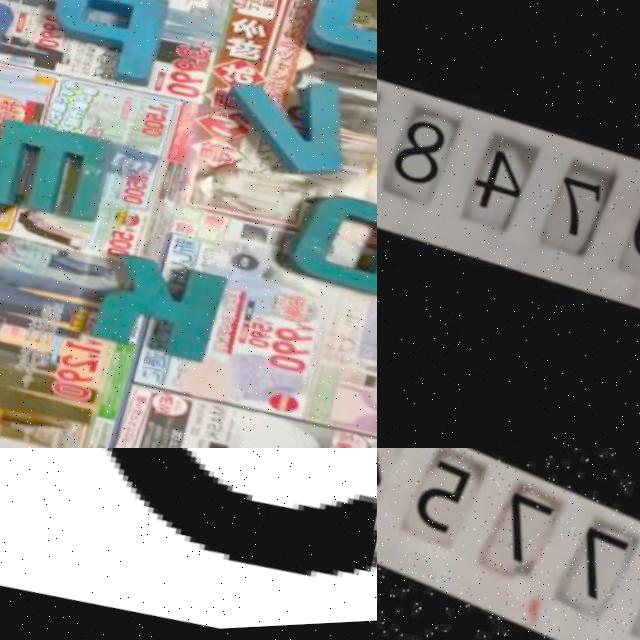0: (616, 187, 640, 289)
4: (454, 130, 542, 240), (377, 448, 415, 525)
5: (396, 448, 493, 555)
7: (475, 474, 572, 591), (548, 510, 640, 625), (537, 161, 617, 261)
8: (377, 101, 463, 208)
9: (0, 448, 377, 609)
D: (272, 185, 377, 306)
J: (289, 0, 377, 81)
K: (80, 249, 225, 370)
M: (0, 113, 117, 229)
P: (31, 0, 172, 91)
V: (211, 64, 355, 182)
